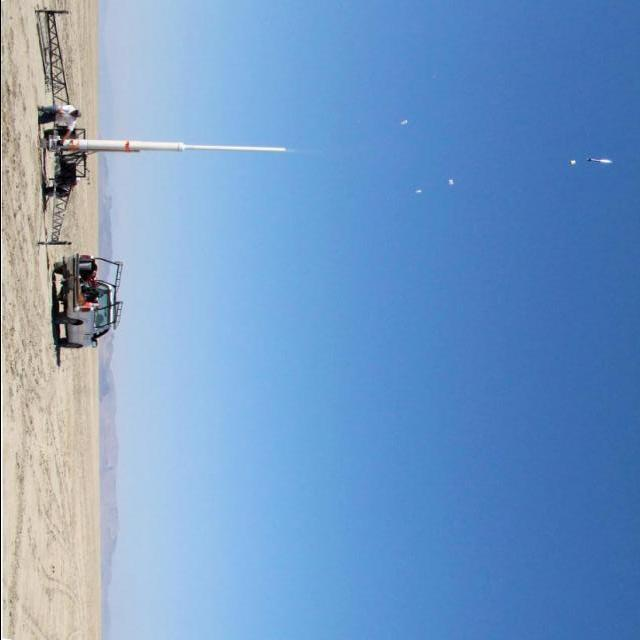missile: (68, 130, 292, 160)
